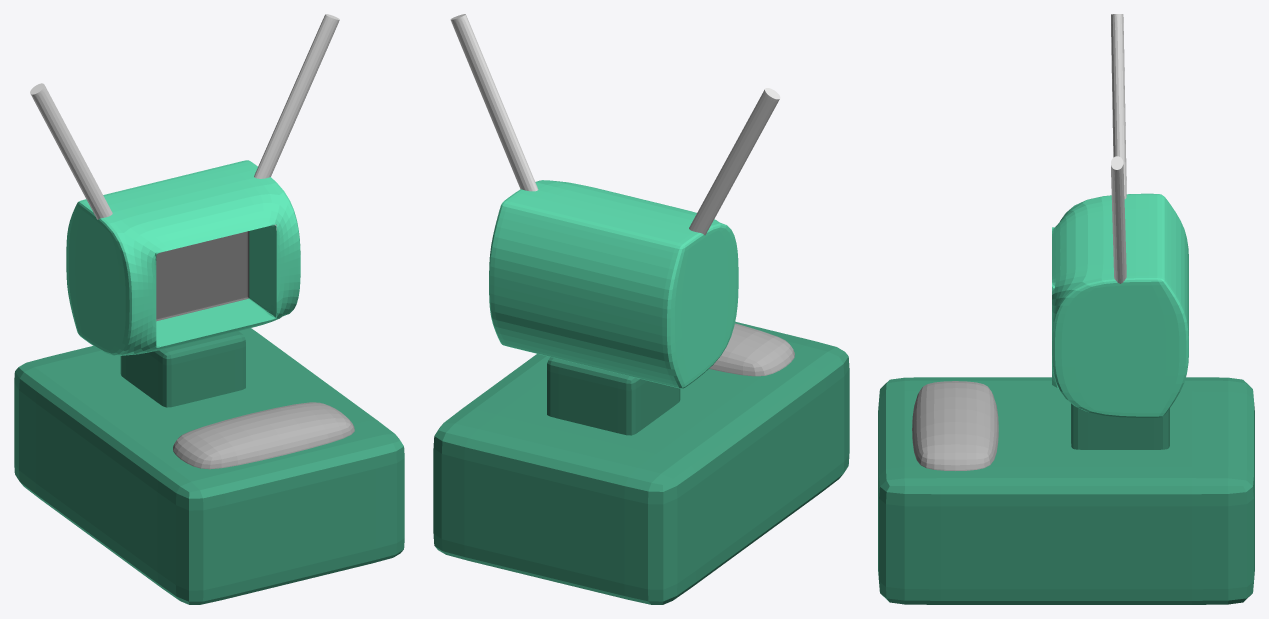
Rendered from request_computer.fbx.
3 views of the same model, side by side, from view 1: azimuth 30°, elevation 25°; view 2: azimuth 150°, elevation 25°; view 3: azimuth 270°, elevation 25° (orthographic). The views are drawn at different scales.
Parts seen in each view (by area): view 1: request computer.003; view 2: request computer.003; view 3: request computer.003.
Boxes of the visible parts, <box> form: request computer.003: <box>14,14,404,604</box>; request computer.003: <box>433,14,849,604</box>; request computer.003: <box>878,14,1254,604</box>.
Bounding box in the file's own units: 269 × 377 × 275.
